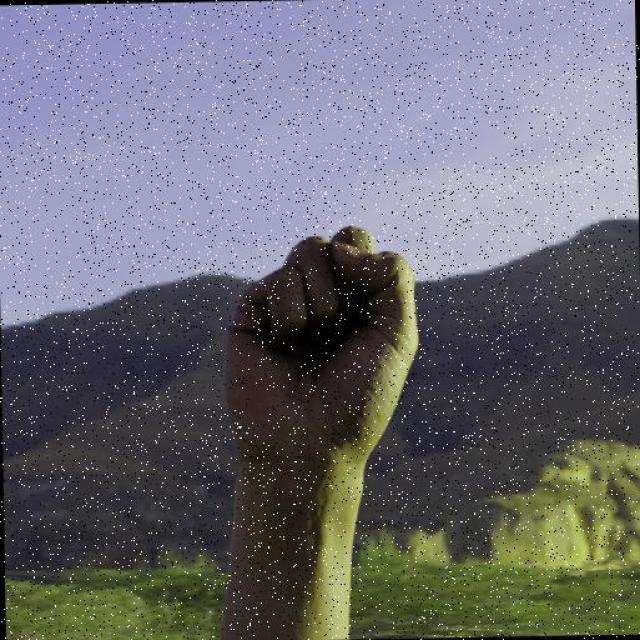S: (217, 224, 428, 468)
